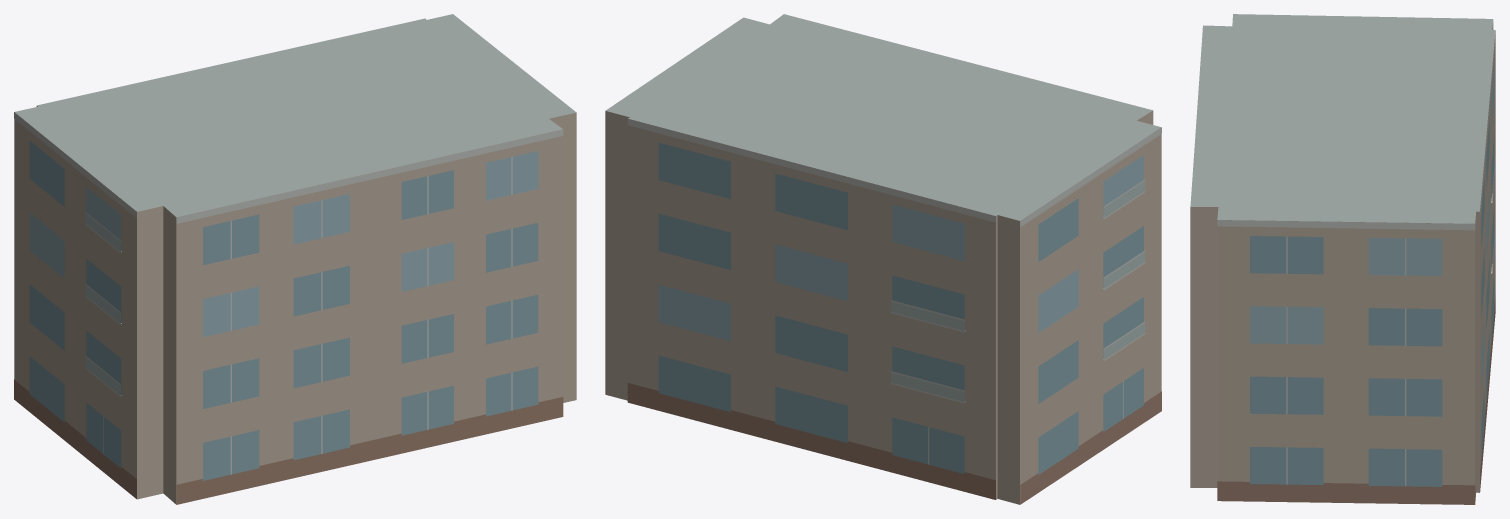
File: survey-upis-32659747.glb
The picture shows the model from 3 angles, left to right: view 1: azimuth 30°, elevation 25°; view 2: azimuth 150°, elevation 25°; view 3: azimuth 270°, elevation 25°; orthographic projection. The views are drawn at different scales.
Parts seen in each view (by area): view 1: survey-upis-32659747.tmp; view 2: survey-upis-32659747.tmp; view 3: survey-upis-32659747.tmp.
Boxes of the visible parts, x1,y1,x2,y2 form: survey-upis-32659747.tmp: [14, 14, 576, 504]; survey-upis-32659747.tmp: [605, 14, 1161, 504]; survey-upis-32659747.tmp: [1190, 14, 1495, 504].
Size of the model in its own units: 16.89 by 10.55 by 10.39.
